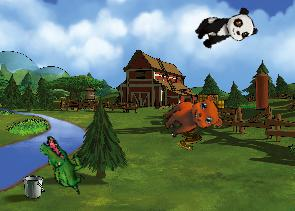bear: (158, 86, 228, 151)
crocodile: (28, 133, 97, 196)
panda: (192, 5, 258, 53)
